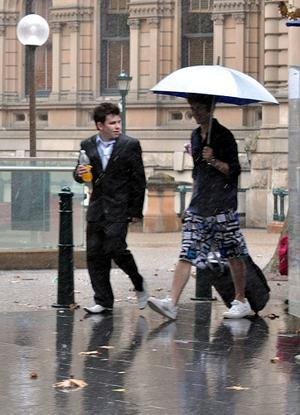person: (148, 94, 251, 320)
